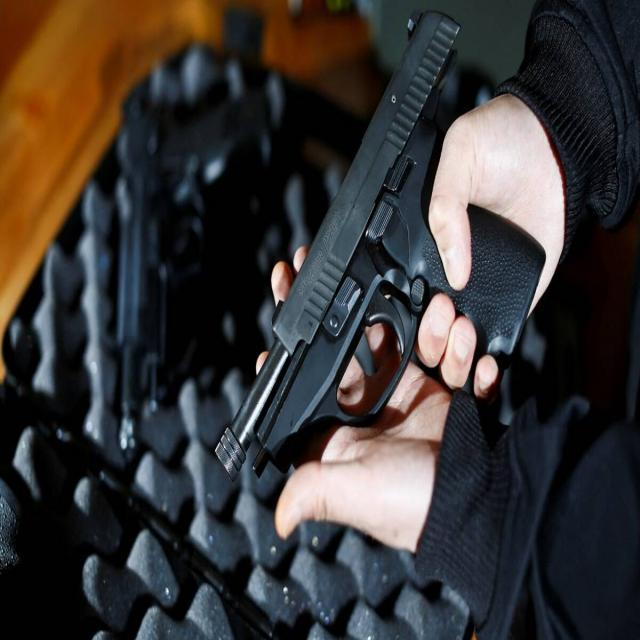pistol: (208, 10, 550, 486)
